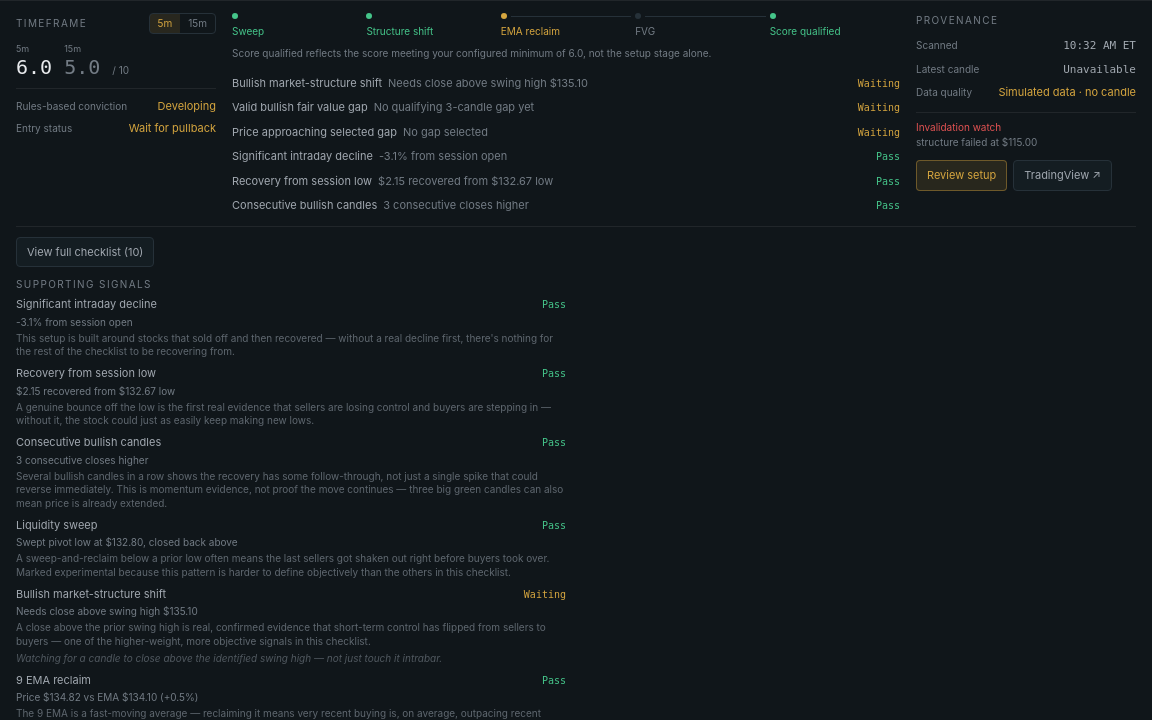
Test: SetupDetail — full checklist disclosure (Issue 1) › collapses again on a second click
Click the button "View full checklist (10)": (85, 252) top-left (16, 236), bottom-right (154, 267)
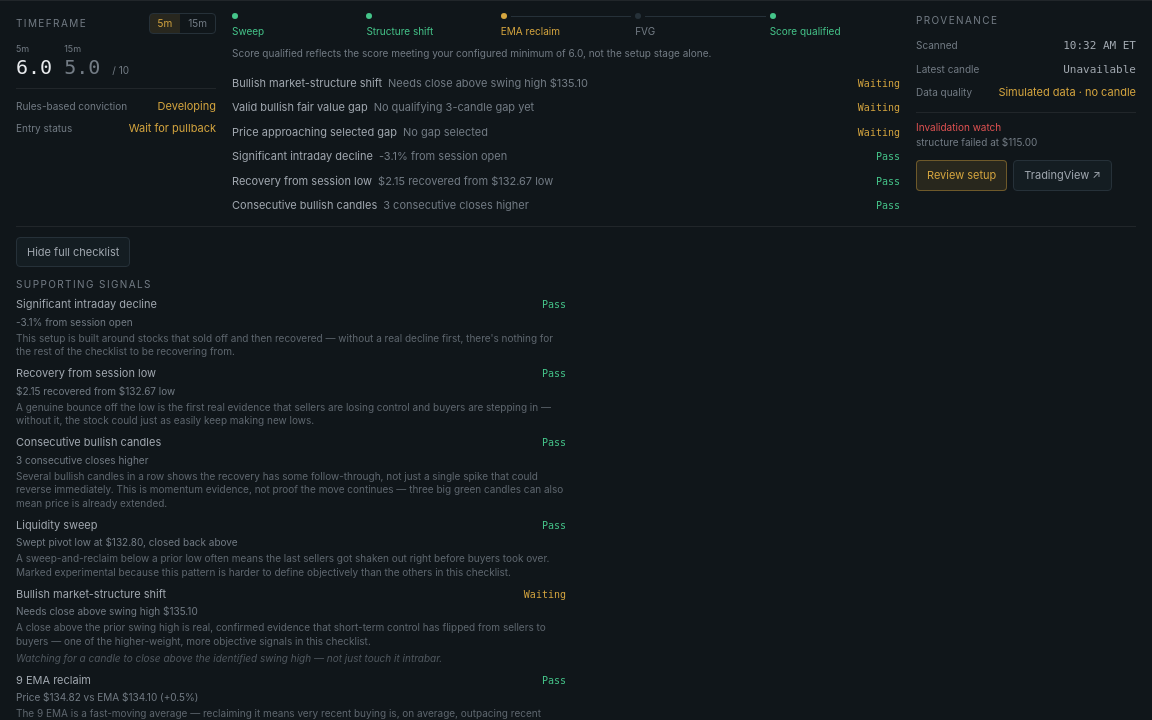
Click the button named "view full checklist": (73, 252) top-left (16, 236), bottom-right (130, 267)
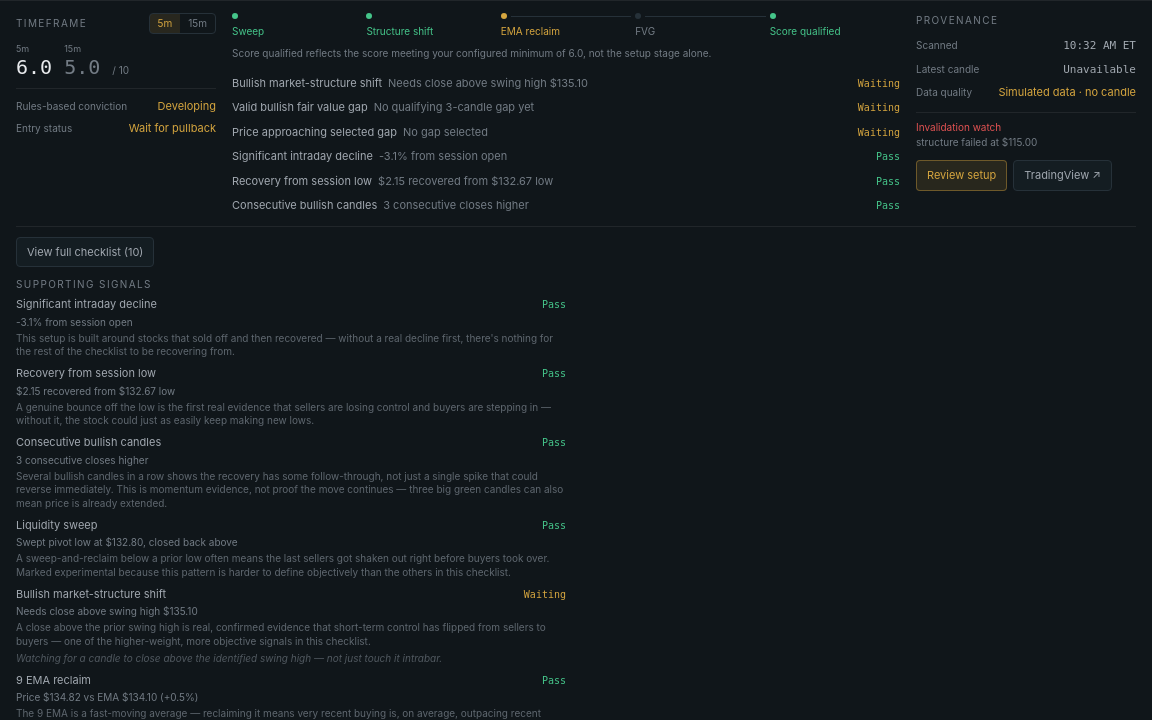
Check: the button "View full checklist (10)" is collapsed, box top-left (16, 236), bottom-right (154, 267)
